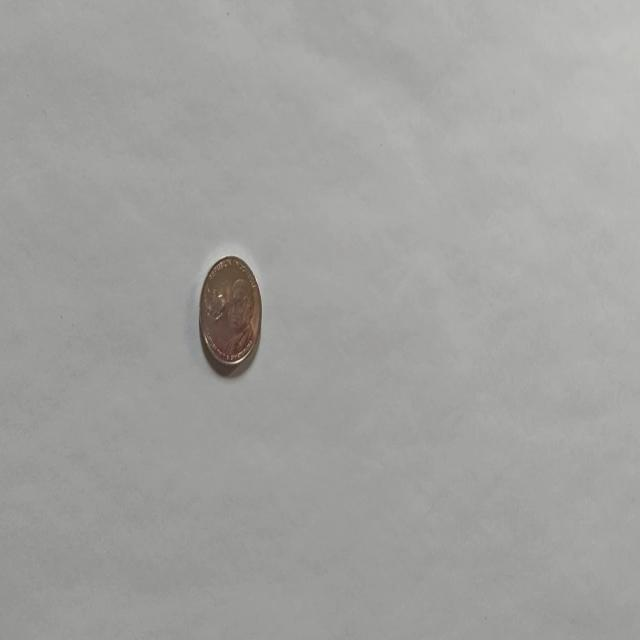lima ratus rupiah: (198, 253, 262, 370)
